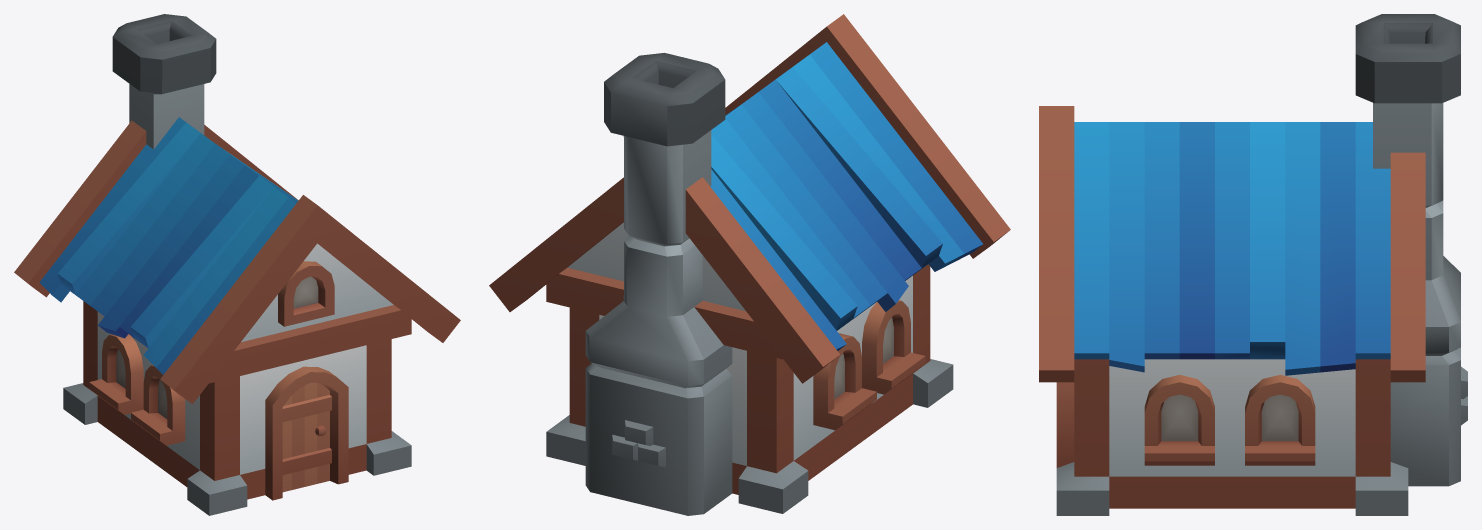
The model's file is building_home_A_blue.gltf.
The picture shows the model from 3 angles, left to right: view 1: azimuth 30°, elevation 25°; view 2: azimuth 150°, elevation 25°; view 3: azimuth 270°, elevation 25°; orthographic projection. The views are drawn at different scales.
Visible parts, largest first — view 1: building_home_A_blue; view 2: building_home_A_blue; view 3: building_home_A_blue.
Part boxes in pixels (x1,y1,x2,y2): building_home_A_blue: (14, 14, 460, 515); building_home_A_blue: (489, 14, 1010, 515); building_home_A_blue: (1039, 14, 1467, 515).
Size of the model in its own units: 0.7919 by 0.93 by 0.8537.
Materials: 1 (1 with a texture image).
